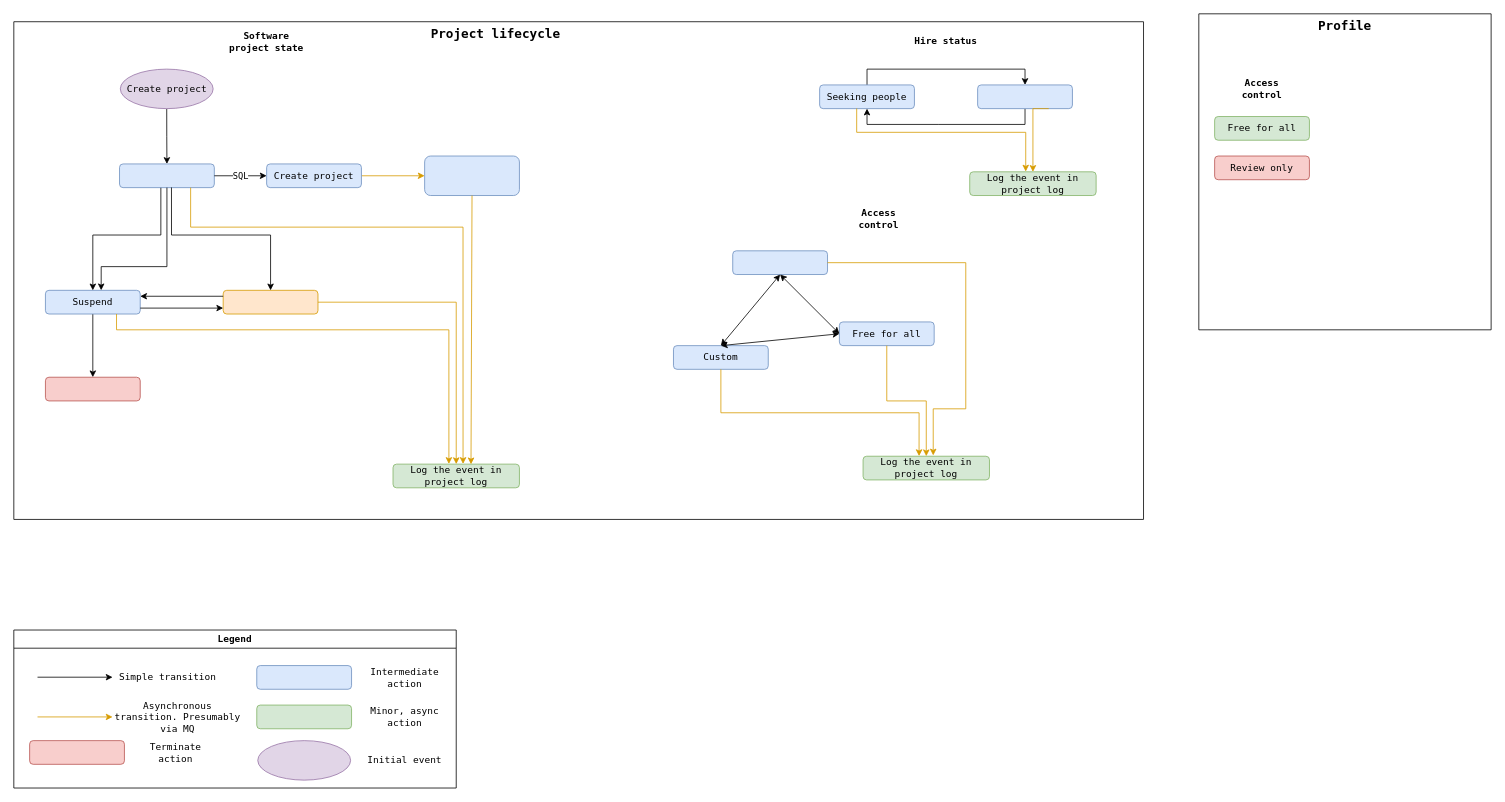
Image size: 1505x802. Some labels were removed from this diagram. The centre of each missing label's shape, as x and y in pixels:
"Add creator to participant with role" belongs at (471,175).
"Create" belongs at (166,175).
"Delete" belongs at (92,388).
"Members only" belongs at (780,262).
"Not seeking people" belongs at (1024,96).
"Set custom status" belongs at (270,302).
